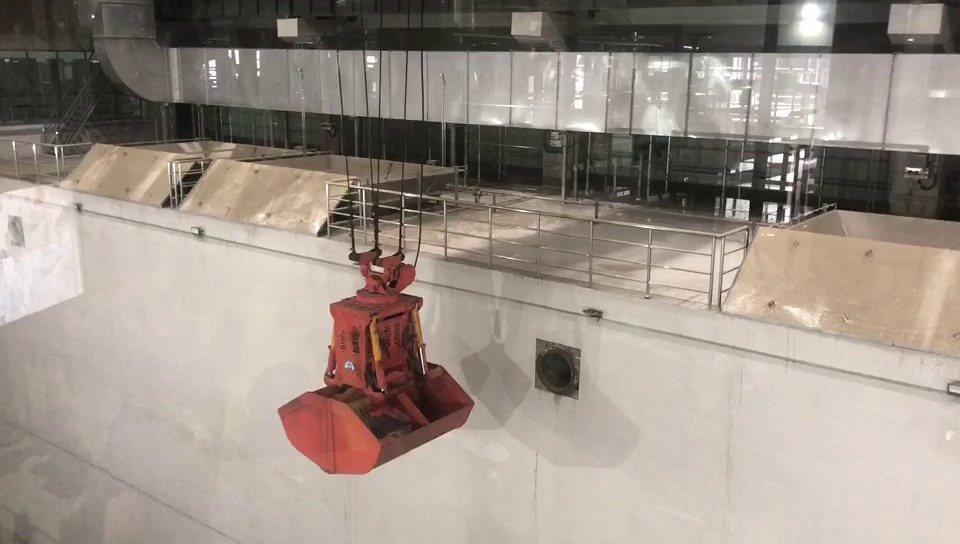grab: (273, 239, 477, 481)
